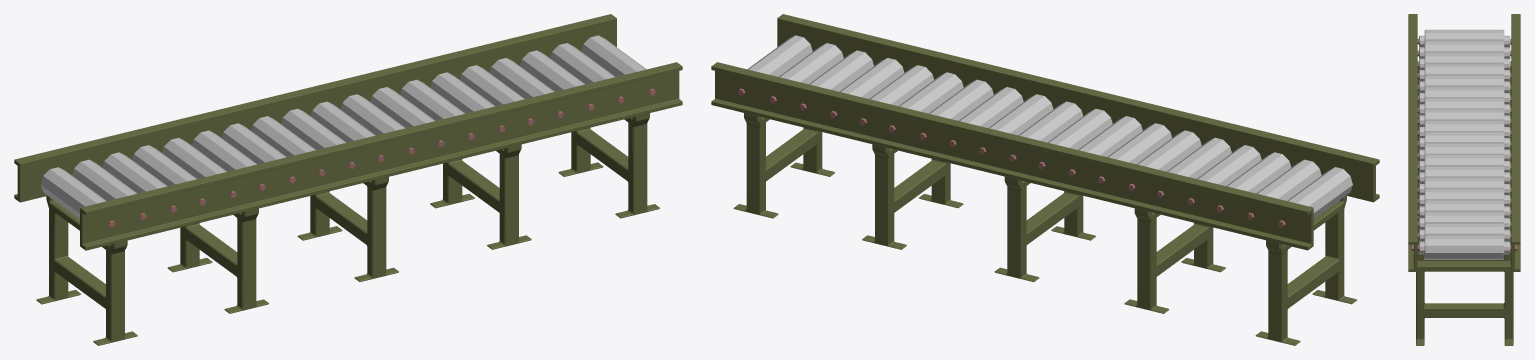
Rendered from ConveyerBelt_Straight.fbx.
3 views of the same model, side by side, from view 1: azimuth 30°, elevation 25°; view 2: azimuth 150°, elevation 25°; view 3: azimuth 270°, elevation 25° (orthographic). The views are drawn at different scales.
Parts seen in each view (by area): view 1: polySurface831_polySurface864; view 2: polySurface831_polySurface864; view 3: polySurface831_polySurface864.
Boxes of the visible parts, x1,y1,x2,y2 form: polySurface831_polySurface864: (14,14,682,345); polySurface831_polySurface864: (711,14,1379,345); polySurface831_polySurface864: (1408,14,1520,345).
Bounding box in the file's own units: 1602 × 365 × 333.
